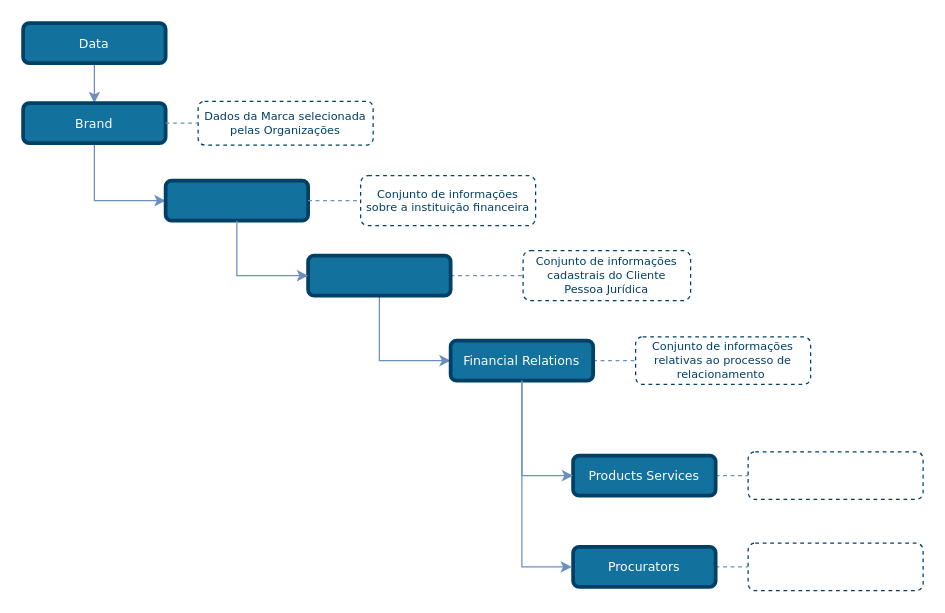
This 945x613 diagram has some shape labels left out. The box of each missing label's shape, as (x1, y1, x2, y2) in pixels:
Business Customers: (306, 253, 452, 297)
Companies: (163, 178, 309, 222)
Informações relativas aos Produtos e serviços com contratos vigentes: (747, 451, 923, 499)
Informações relativas aos representantes: (747, 542, 923, 591)
